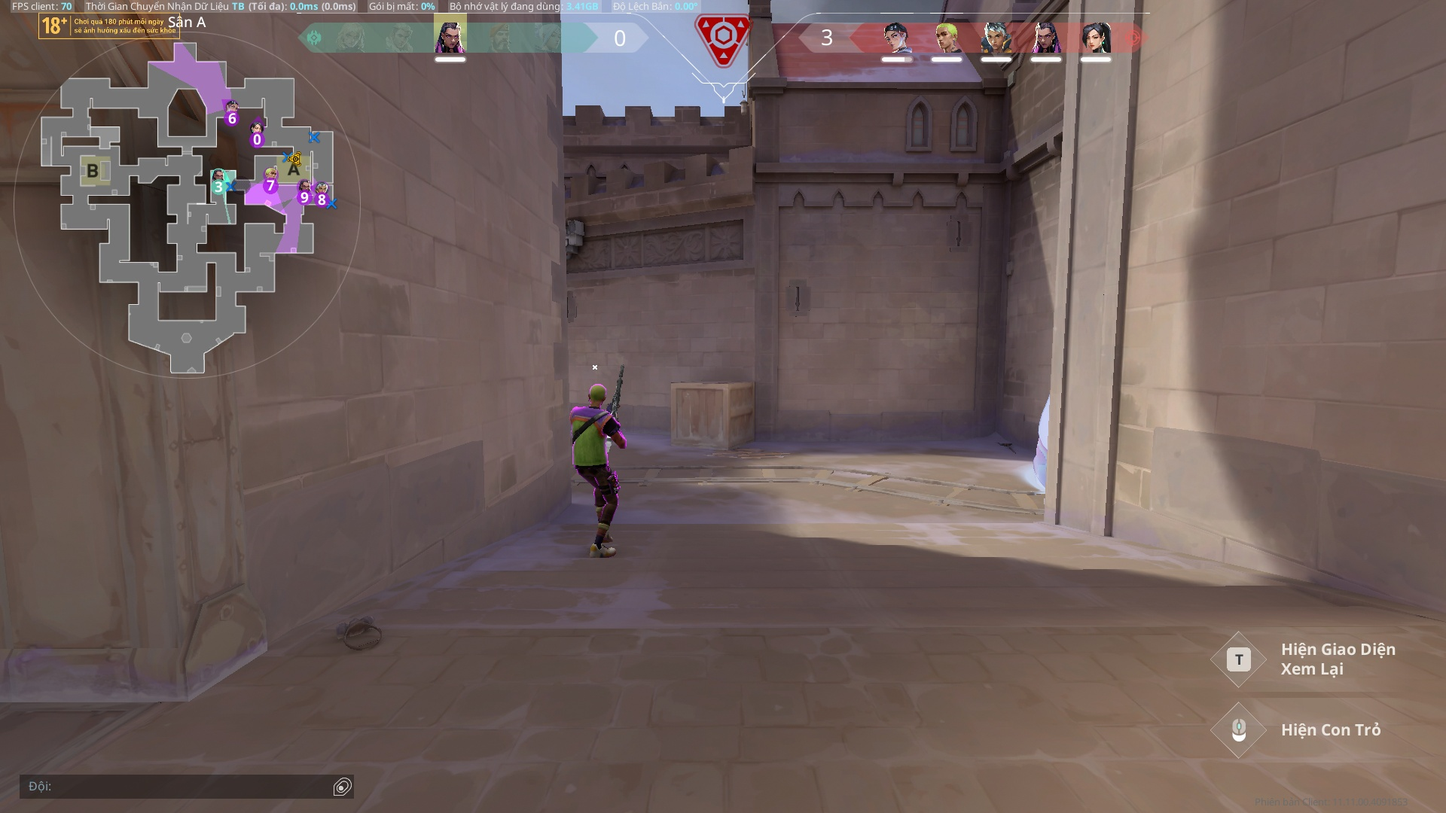body: (568, 406, 624, 463)
head: (585, 383, 609, 407)
